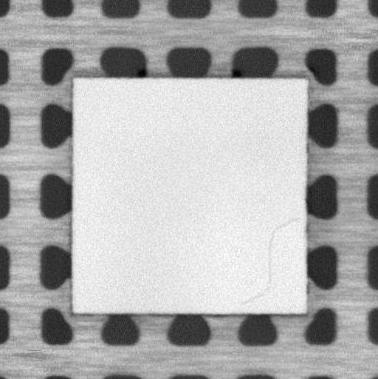DIE_CRACK: (243, 217, 302, 304)
